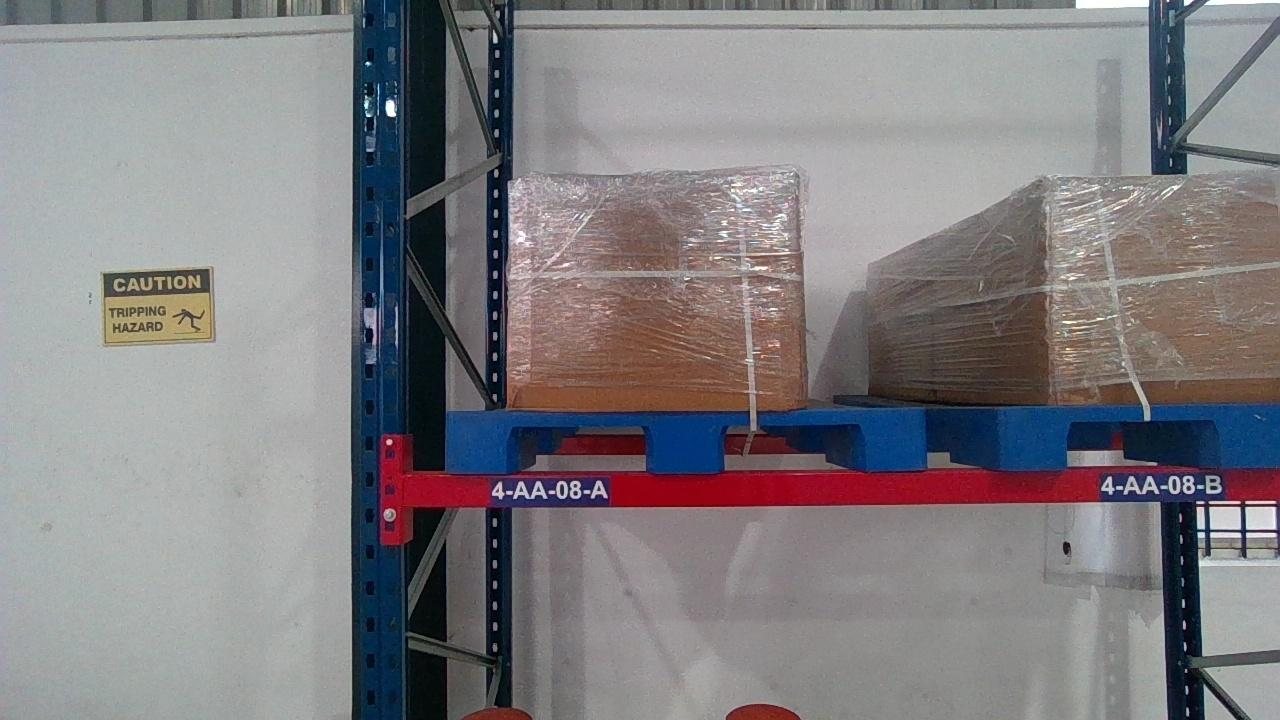h_rack: (407, 468, 1278, 505)
small_pallet: (443, 411, 928, 470), (960, 403, 1278, 465)
